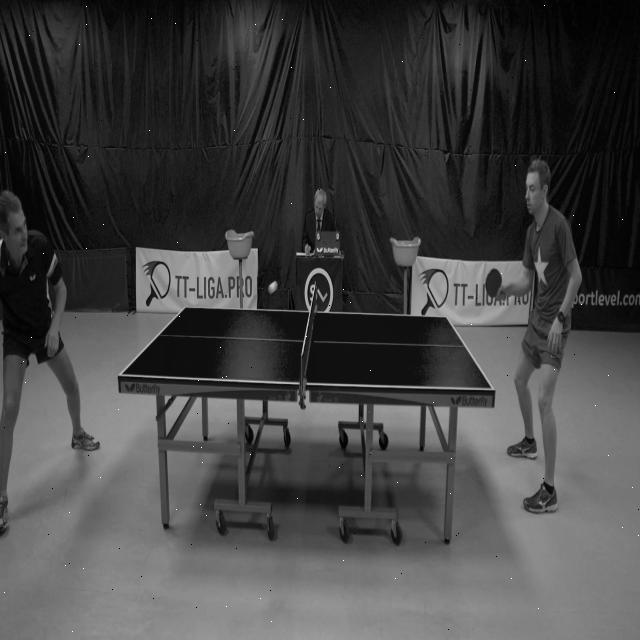ping-pong-ball: (267, 277, 279, 296)
